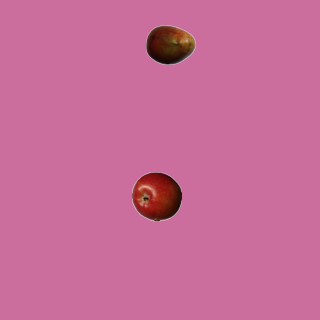Apple Braeburn: (131, 171, 181, 221)
Mango Red: (145, 19, 195, 69)
